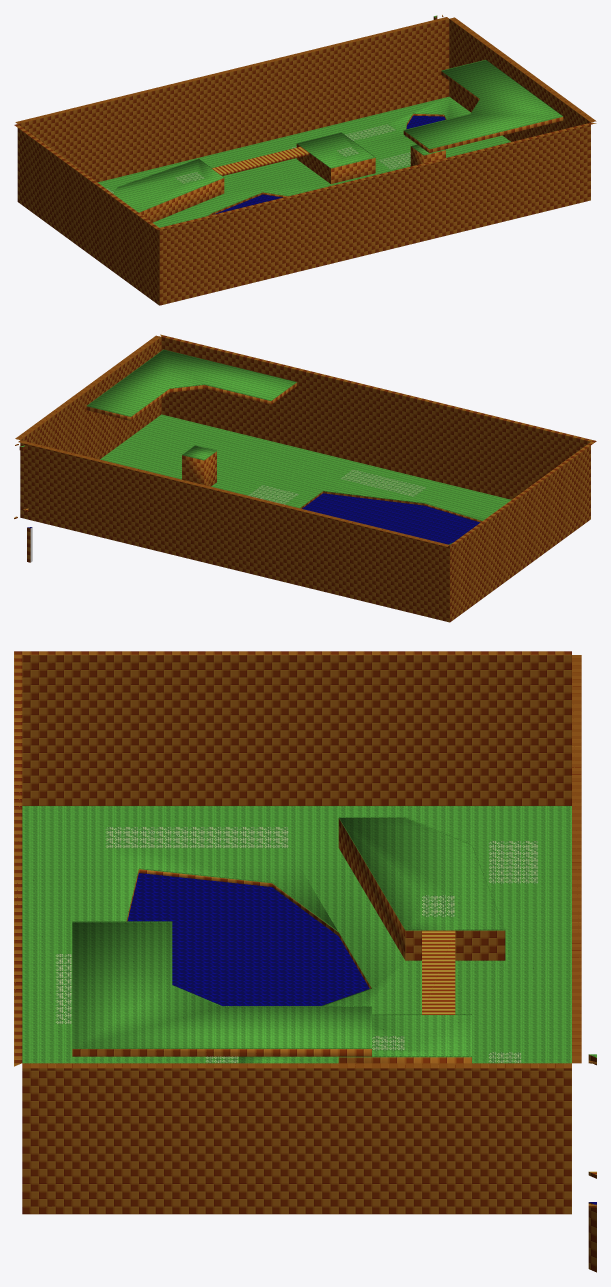
File: MeadowMatchModel.fbx
3 renders of one model, top to bottom at view 1: azimuth 30°, elevation 25°; view 2: azimuth 150°, elevation 25°; view 3: azimuth 270°, elevation 25°, orthographic. The views are drawn at different scales.
Visible parts, largest first — view 1: MAPMB, MAPMB_NoCollide, MAPMB_Water; view 2: MAPMB, MAPMB_Water, MAPMB_NoCollide; view 3: MAPMB, MAPMB_Water, MAPMB_NoCollide.
Part boxes in pixels (bbox=[...]): MAPMB: bbox=[14, 15, 596, 305]; MAPMB_NoCollide: bbox=[113, 59, 562, 215]; MAPMB_Water: bbox=[214, 115, 445, 214]; MAPMB: bbox=[14, 334, 596, 622]; MAPMB_Water: bbox=[27, 493, 480, 544]; MAPMB_NoCollide: bbox=[87, 349, 481, 544]; MAPMB: bbox=[14, 651, 596, 1272]; MAPMB_Water: bbox=[127, 873, 596, 1204]; MAPMB_NoCollide: bbox=[72, 817, 505, 1057].
Bounding box in the file's own units: 11848 × 2950 × 7000.
Materials: 9 (8 with a texture image).
